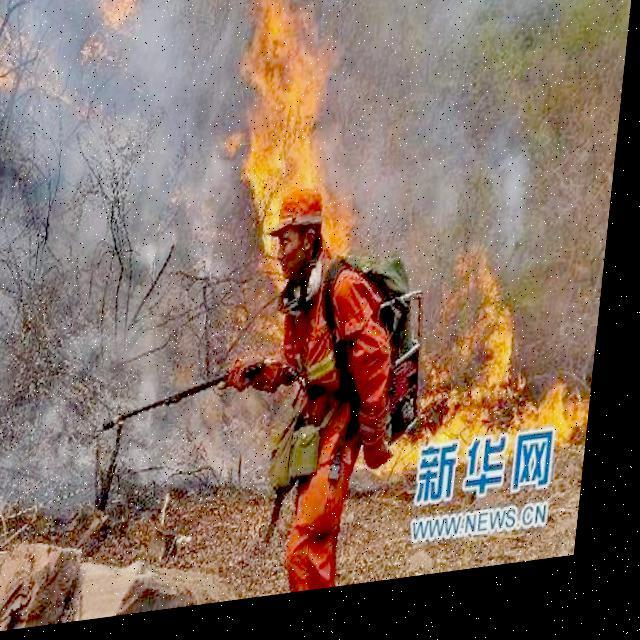Fire: (370, 253, 606, 514), (225, 0, 379, 285), (90, 0, 144, 60)
